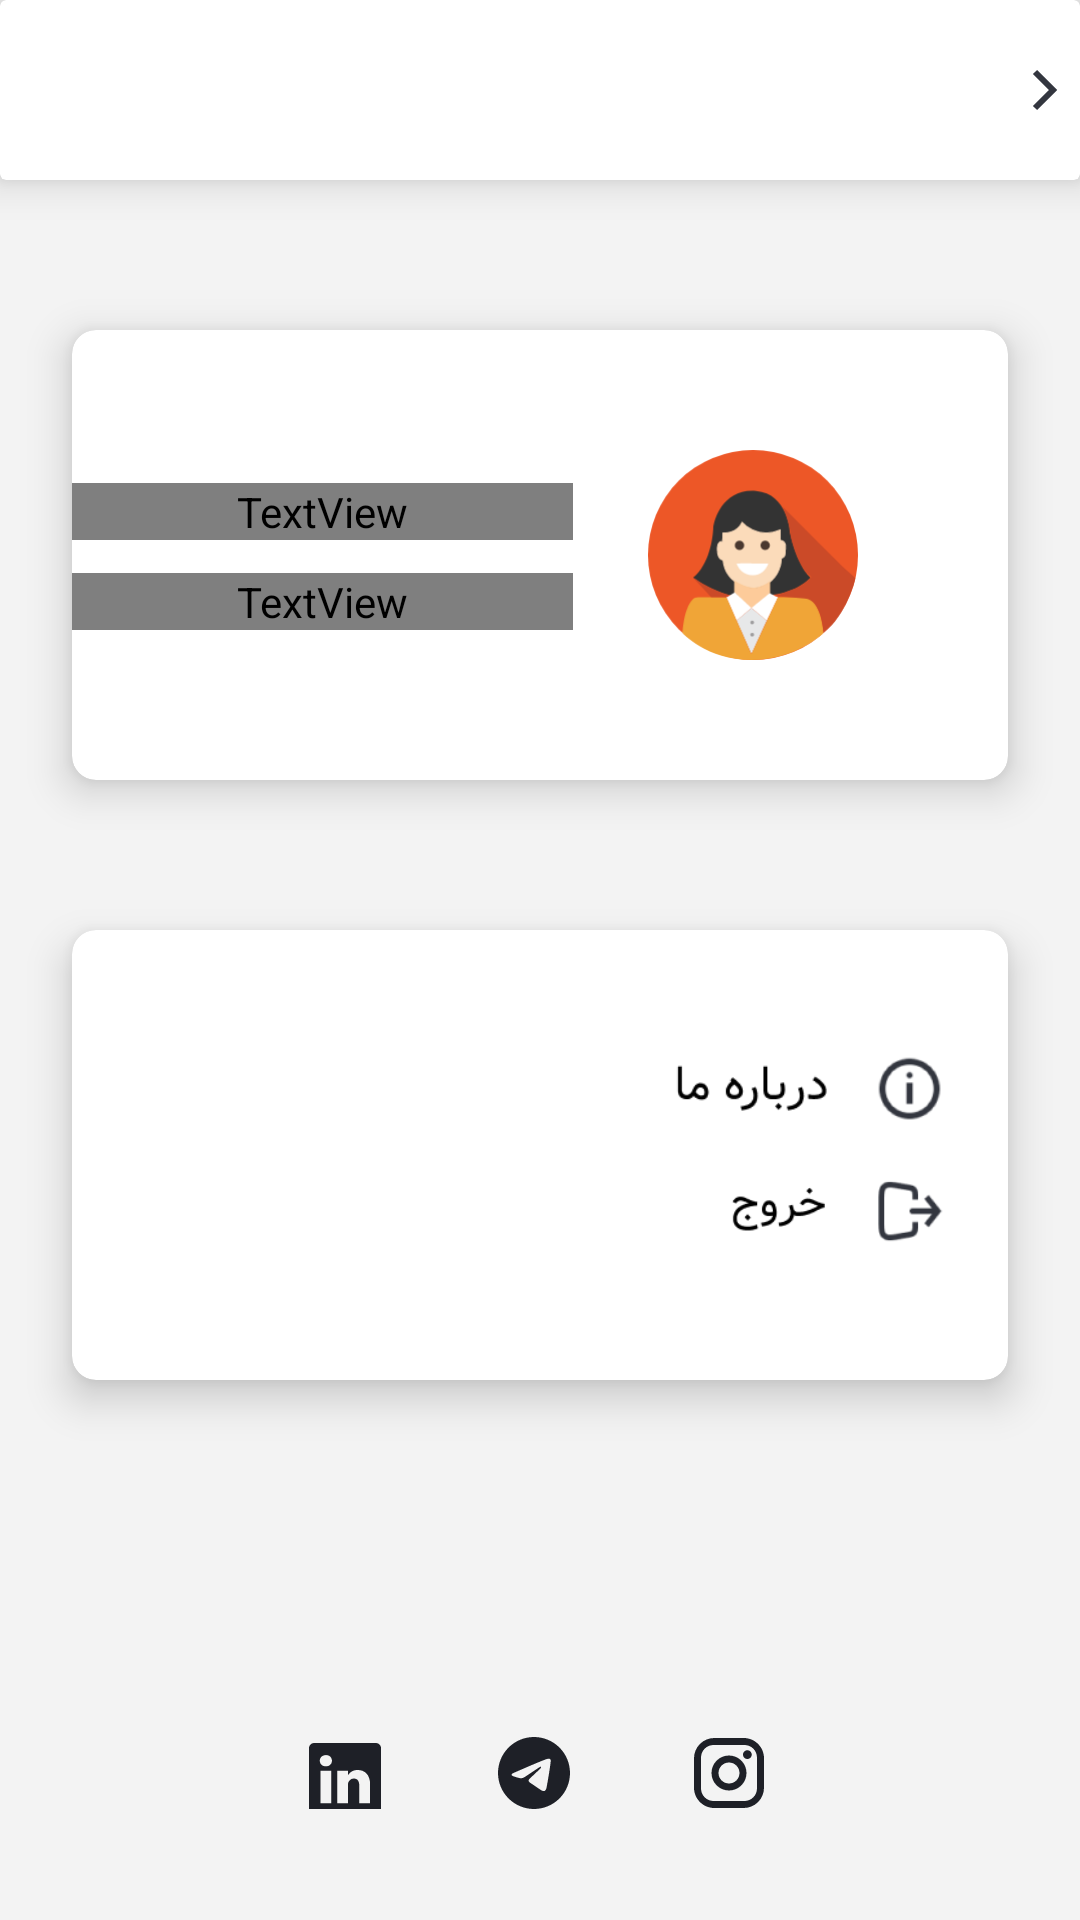

Where to tap for icons on this 1080*1920 app screen, as point (x, y):
vectoravatar: point (753, 555)
